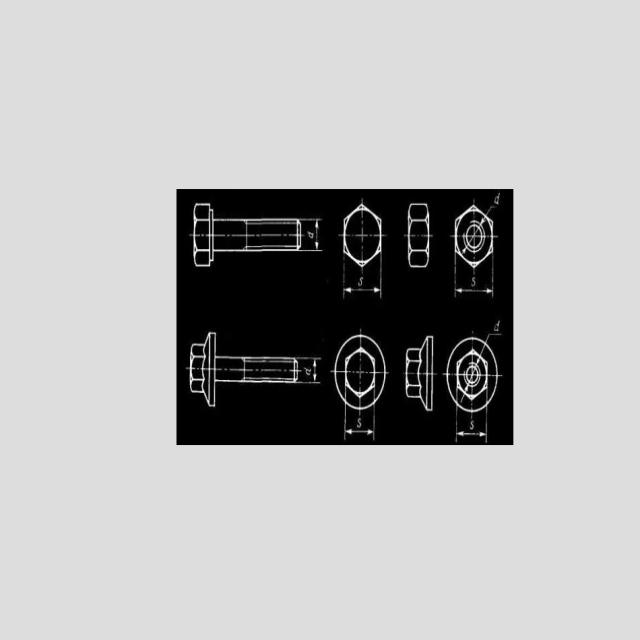marking_line: (455, 287, 494, 298), (456, 430, 486, 440), (344, 288, 381, 295), (315, 220, 321, 252), (346, 430, 373, 436), (313, 359, 318, 382)
